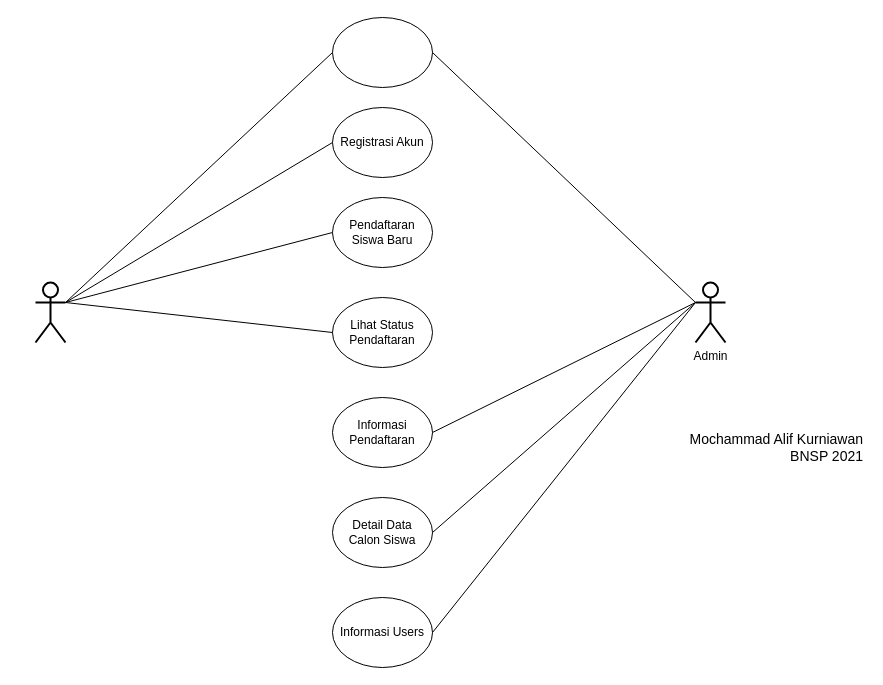
This 883x685 diagram has some shape labels left out. Here are the shapes that lost their labels. From the top down, the centre of each, then its label:
the point at 382,52: Login
the point at 50,312: Calon Siswa
